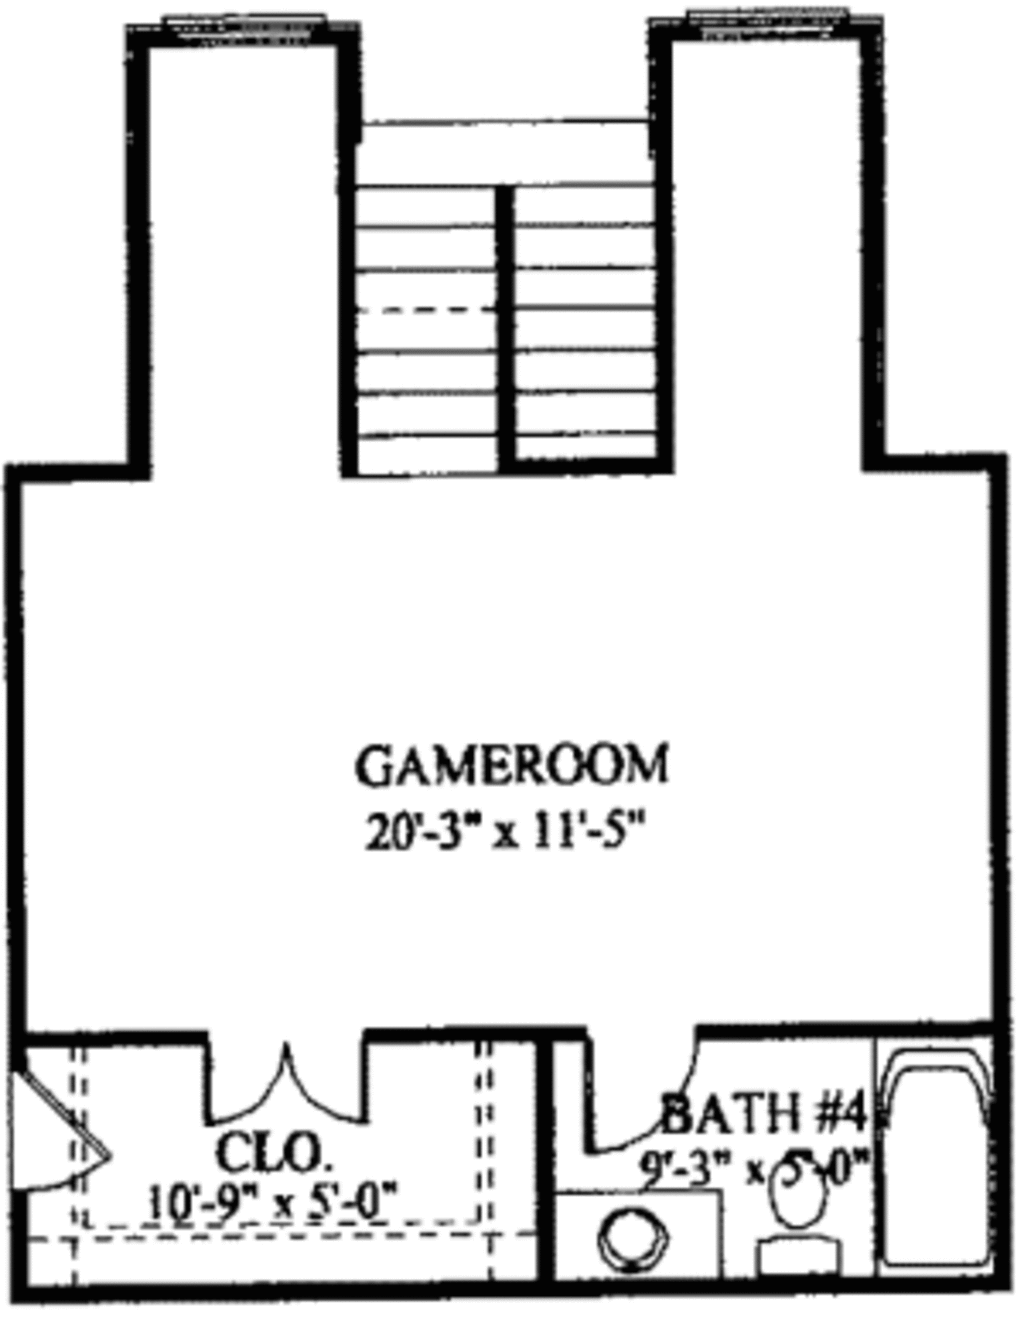door: (187, 1011, 367, 1123), (561, 1023, 709, 1158), (9, 1077, 117, 1189)
large_sink: (747, 1147, 857, 1273)
small_sink: (585, 1204, 707, 1283)
stairs: (339, 181, 683, 485)
tub: (867, 1033, 993, 1285)
